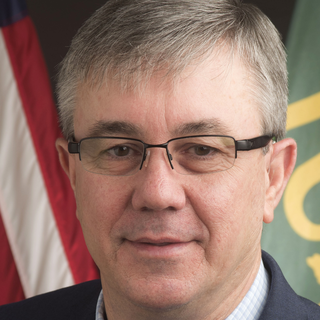eye: (177, 139, 226, 162), (95, 140, 142, 163)
